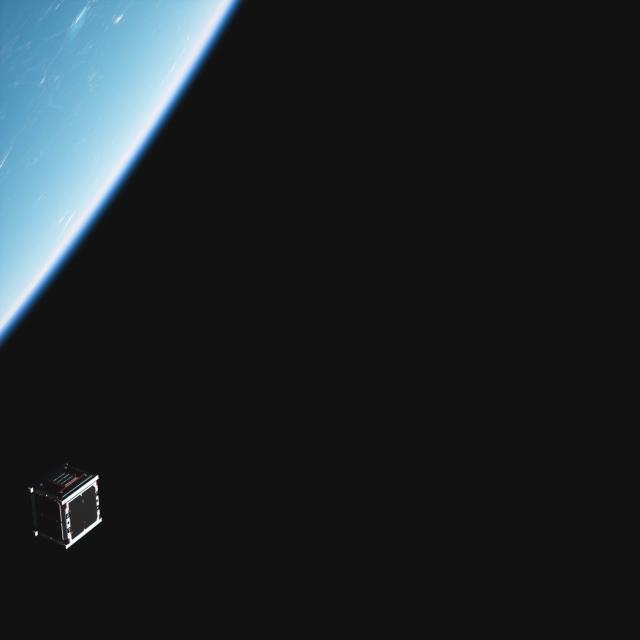satellite: (26, 462, 106, 552)
